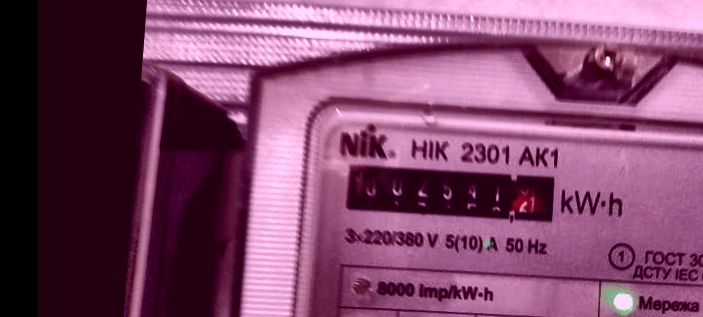0: (361, 171, 380, 199), (389, 170, 405, 198)
1: (488, 176, 503, 204)
2: (413, 172, 430, 198)
4: (465, 175, 479, 199)
5: (437, 173, 457, 202)
6: (515, 195, 531, 214)
screen: (333, 148, 570, 235)
